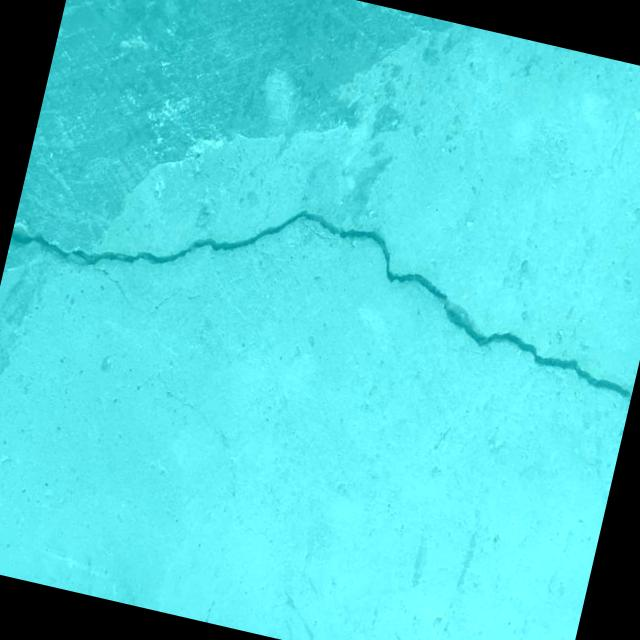crack: (0, 106, 640, 423), (140, 369, 250, 468)
